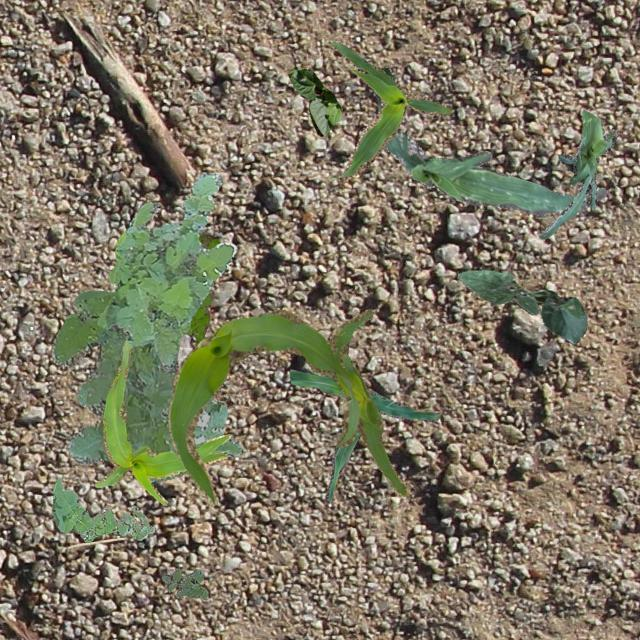crop: (166, 308, 408, 506), (374, 66, 606, 214), (94, 338, 228, 504), (288, 368, 439, 502), (328, 39, 451, 182), (538, 109, 616, 238), (456, 268, 586, 342), (286, 66, 340, 136)
weed: (52, 290, 226, 480), (96, 172, 235, 368), (50, 476, 154, 542), (186, 232, 218, 346), (160, 568, 207, 598), (194, 438, 242, 457)
